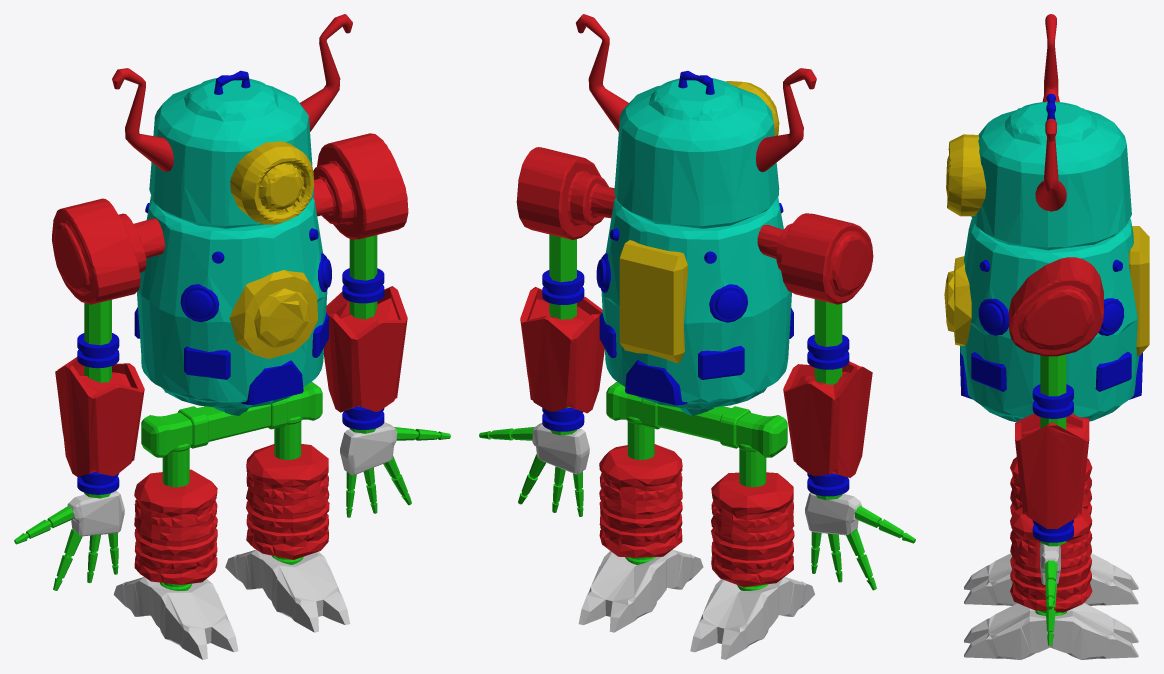
File: RobotToon.fbx
3 views of the same model, side by side, from view 1: azimuth 30°, elevation 25°; view 2: azimuth 150°, elevation 25°; view 3: azimuth 270°, elevation 25° (orthographic). The views are drawn at different scales.
Visible parts, largest first — view 1: Cone, Cone.001, Cone.005, Cone.063, Cone.067, Cone.046, Cone.004, Cone.027, Cone.006, Cone.064, Cone.068, Cone.002 (+16 smaller); view 2: Cone, Cone.001, Cone.067, Cone.063, Cone.046, Cone.027, Cone.005, Cone.070, Cone.004, Cone.068, Cone.064, Cone.002 (+15 smaller); view 3: Cone.001, Cone, Cone.004, Cone.064, Cone.027, Cone.063, Cone.068, Cone.003, Cone.070, Cone.006, Cone.022, Cone.025 (+9 smaller).
Part boxes in pixels (<box>): Cone: <box>137,196,327,415</box>; Cone.001: <box>149,78,314,228</box>; Cone.005: <box>52,198,165,304</box>; Cone.063: <box>246,444,329,559</box>; Cone.067: <box>134,469,217,584</box>; Cone.046: <box>55,357,144,477</box>; Cone.004: <box>313,133,408,239</box>; Cone.027: <box>323,286,407,412</box>; Cone.006: <box>229,270,317,358</box>; Cone.064: <box>225,549,350,632</box>; Cone.068: <box>113,577,238,659</box>; Cone.002: <box>141,382,322,457</box>; Cone: <box>601,197,791,415</box>; Cone.001: <box>614,78,779,228</box>; Cone.067: <box>711,472,794,587</box>; Cone.063: <box>599,444,682,557</box>; Cone.046: <box>783,361,872,477</box>; Cone.027: <box>520,287,604,413</box>; Cone.005: <box>757,213,873,304</box>; Cone.070: <box>619,240,687,363</box>; Cone.004: <box>516,147,615,239</box>; Cone.068: <box>690,577,814,659</box>; Cone.064: <box>578,549,703,632</box>; Cone.002: <box>606,382,787,457</box>; Cone.001: <box>971,101,1131,250</box>; Cone: <box>960,218,1139,422</box>; Cone.004: <box>1009,257,1103,356</box>; Cone.064: <box>964,603,1138,659</box>; Cone.027: <box>1015,413,1089,528</box>; Cone.063: <box>1010,507,1092,612</box>; Cone.068: <box>964,553,1138,605</box>; Cone.003: <box>946,134,986,216</box>; Cone.070: <box>1129,226,1149,355</box>; Cone.006: <box>944,256,971,345</box>; Cone.022: <box>1035,118,1066,211</box>; Cone.025: <box>1040,354,1066,396</box>.
Size of the model in its own units: 551 by 686 by 230.
